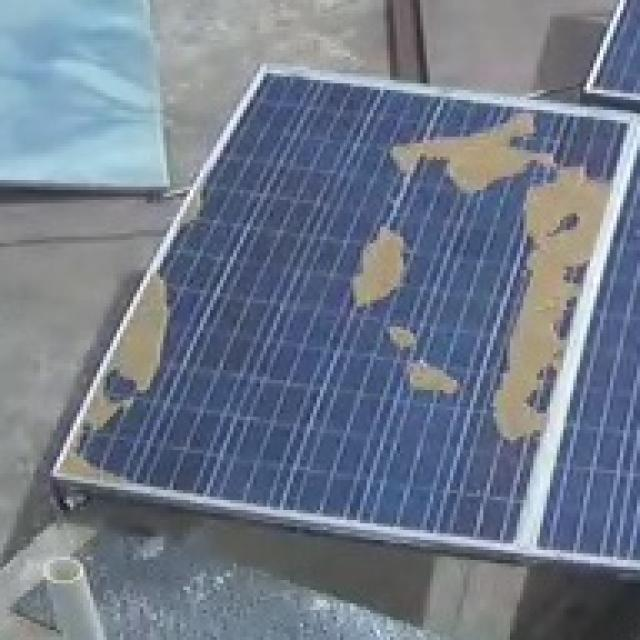Dusty: (378, 108, 614, 445), (59, 271, 173, 482), (348, 218, 411, 318), (403, 356, 471, 398), (180, 186, 206, 228), (383, 330, 425, 349)
